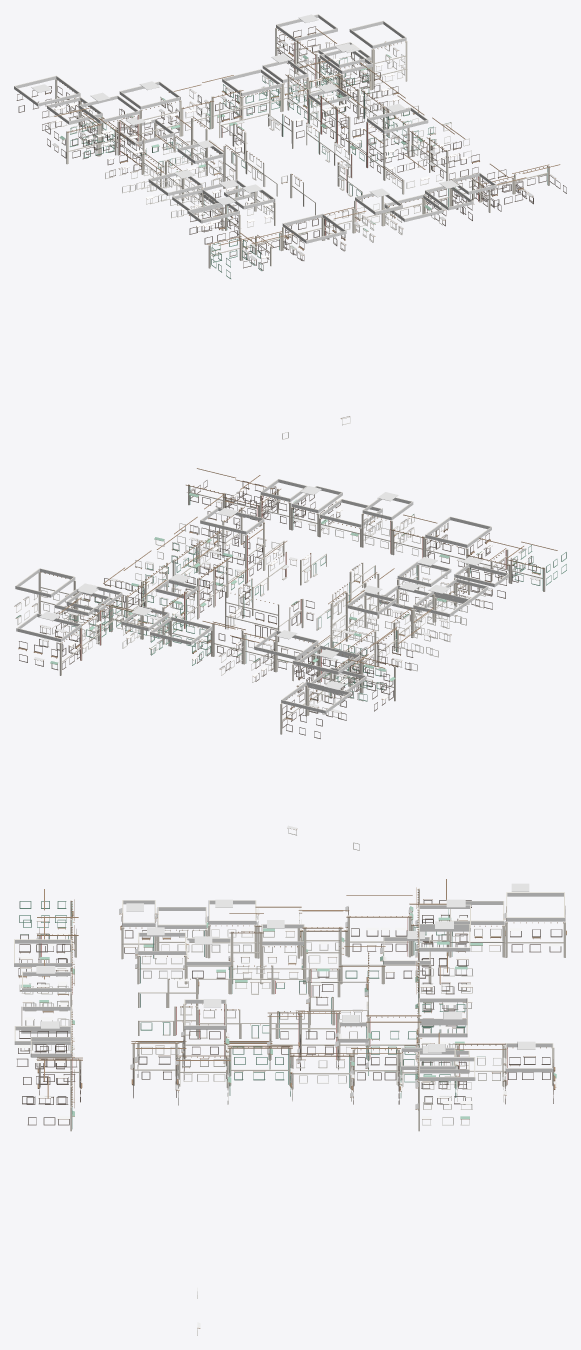
The model's file is alley_trim.glb.
3 views of the same model, one above another, from view 1: azimuth 30°, elevation 25°; view 2: azimuth 150°, elevation 25°; view 3: azimuth 270°, elevation 25° (orthographic). The views are drawn at different scales.
Visible parts, largest first — view 1: alley_trim; view 2: alley_trim; view 3: alley_trim.
Part boxes in pixels (x1=…): alley_trim: x1=14, y1=14, x2=566, y2=439; alley_trim: x1=14, y1=468, x2=566, y2=850; alley_trim: x1=14, y1=879, x2=566, y2=1335.
Size of the model in its own units: 73.66 by 61.02 by 84.01.
